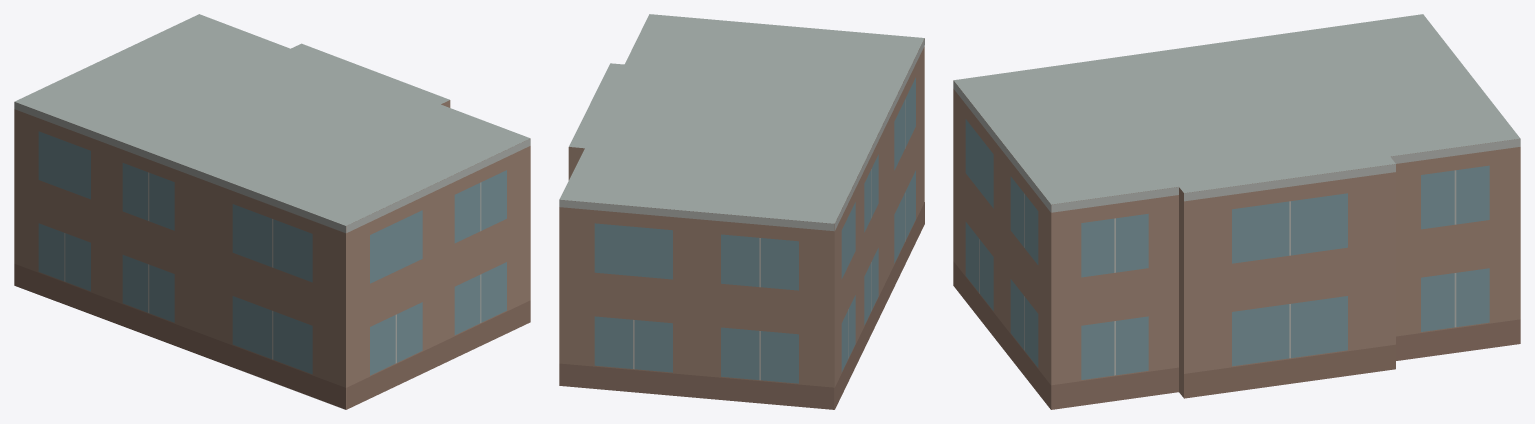
Rendered from survey-upis-32721269.glb.
3 renders of one model, left to right at view 1: azimuth 30°, elevation 25°; view 2: azimuth 150°, elevation 25°; view 3: azimuth 270°, elevation 25°, orthographic. The views are drawn at different scales.
Visible parts, largest first — view 1: survey-upis-32721269.tmp; view 2: survey-upis-32721269.tmp; view 3: survey-upis-32721269.tmp.
Part boxes in pixels (x1,y1,x2,y2): survey-upis-32721269.tmp: [14, 14, 530, 409]; survey-upis-32721269.tmp: [559, 14, 924, 409]; survey-upis-32721269.tmp: [953, 14, 1520, 409].
Size of the model in its own units: 12.15 by 6.1 by 15.28.
